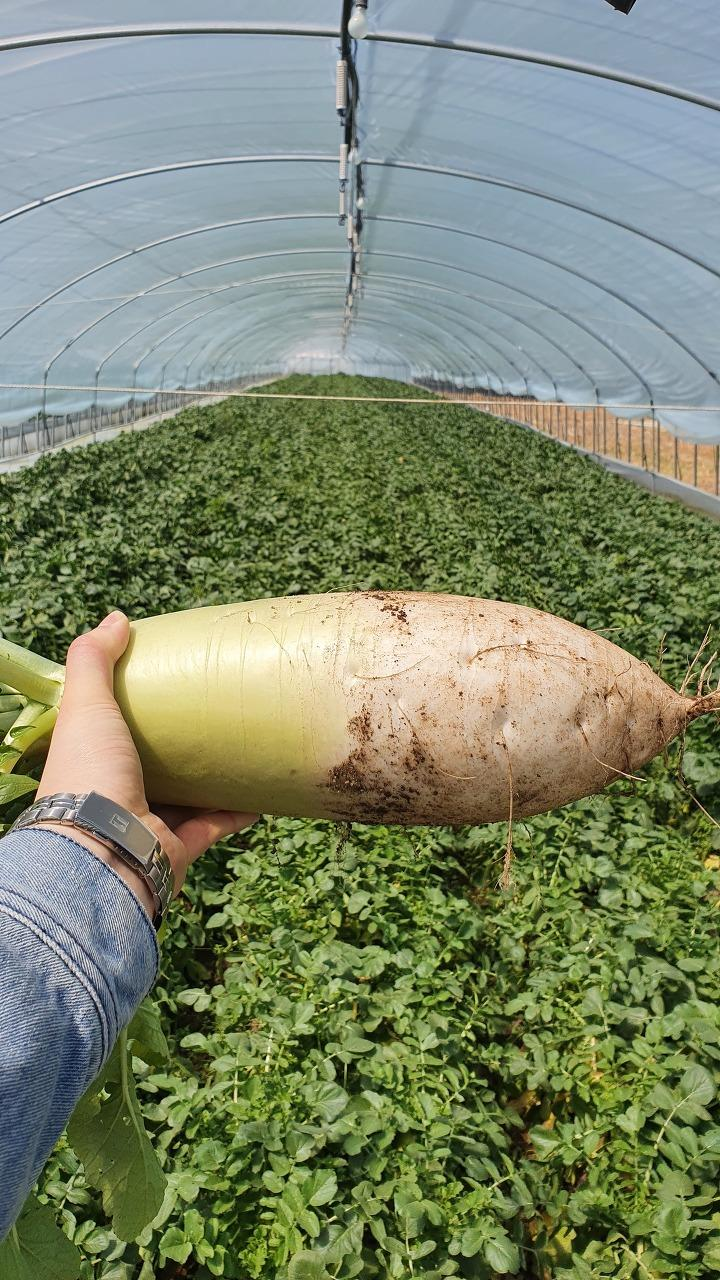radish: (73, 1027, 720, 1280)
